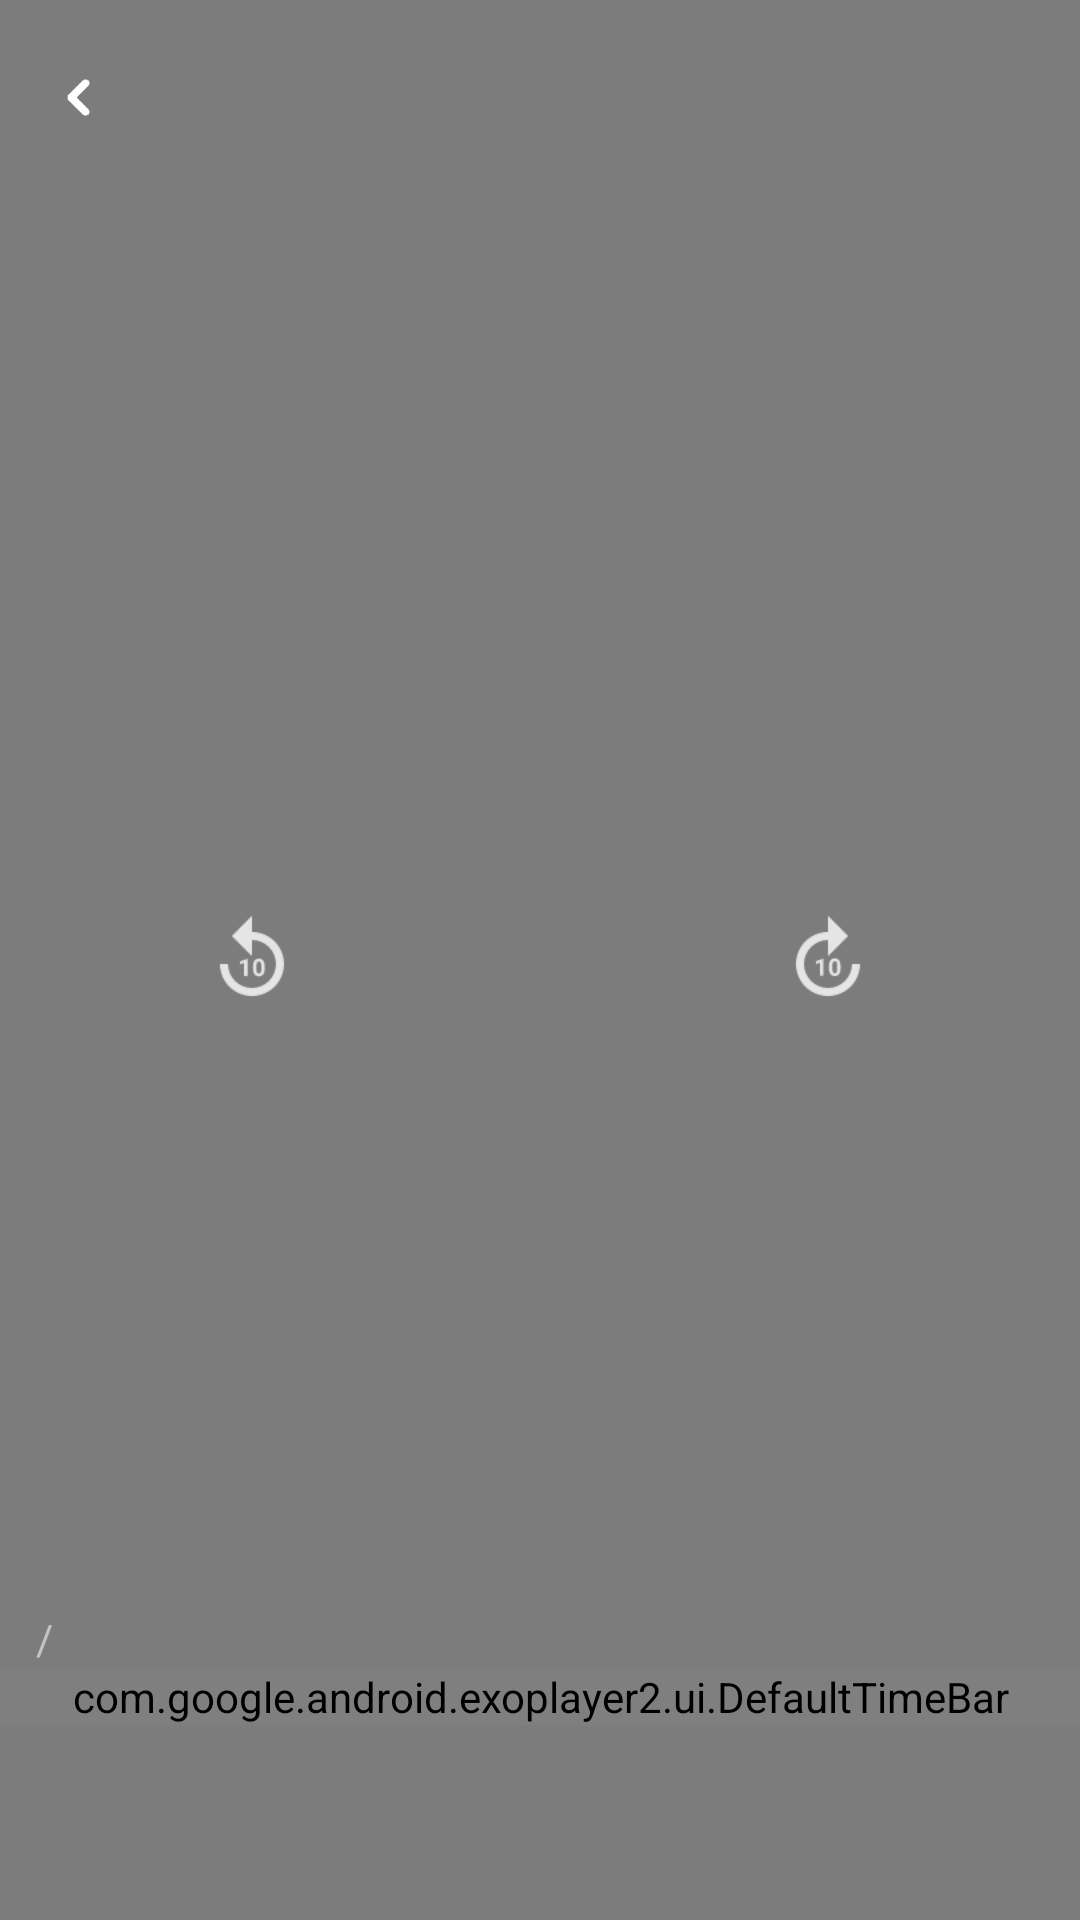

Where icons sit on this 1080px×1920px app screen, as (x1=x1, y1=y1, x2=x2, y2=y2):
forward: (x1=796, y1=916, x2=860, y2=996)
replay: (x1=220, y1=916, x2=284, y2=996)
